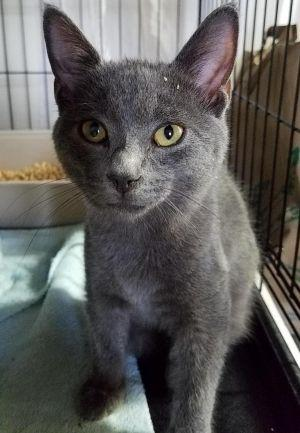rblue: (24, 1, 253, 240)
